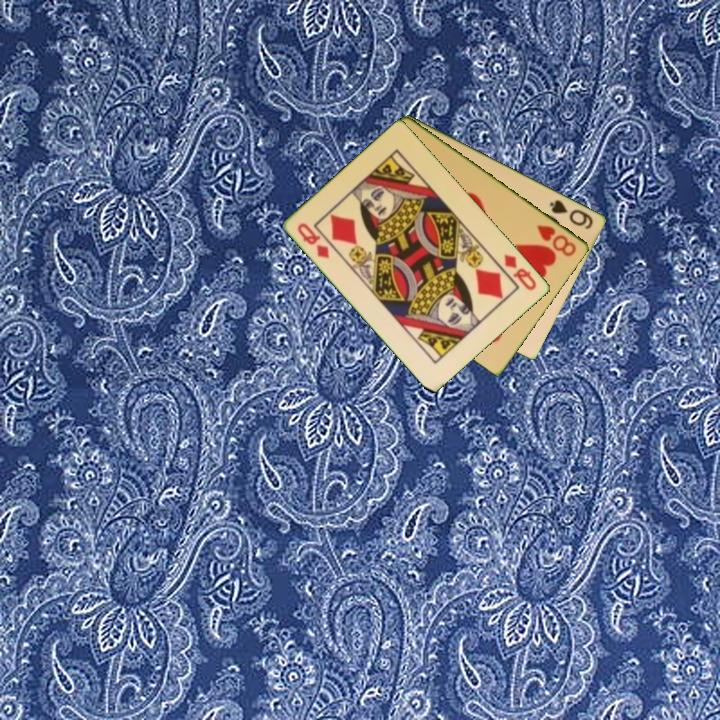6s: (546, 196, 596, 232)
8h: (534, 221, 580, 260)
Qd: (501, 251, 540, 294), (294, 219, 333, 261)
